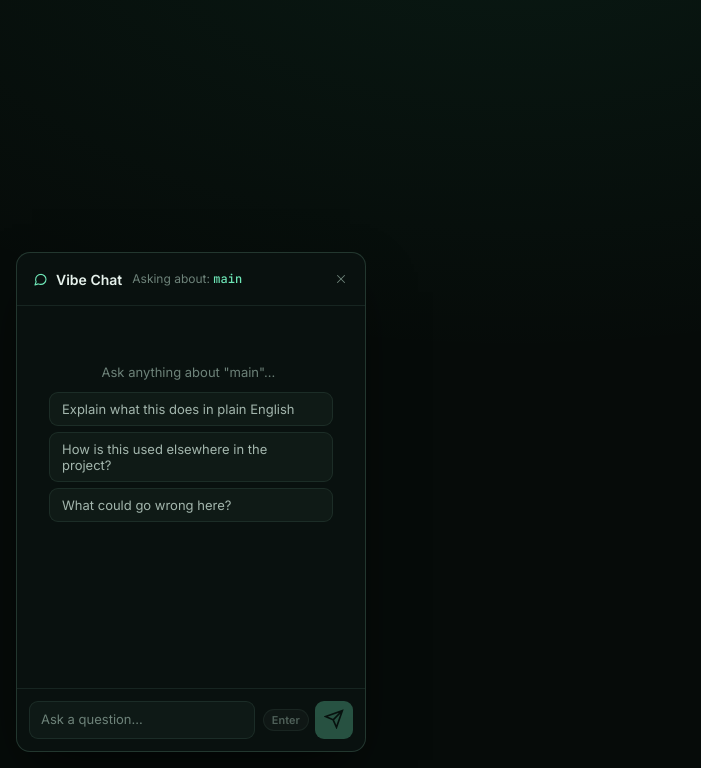
ChatDrawer › keeps the user message when the response is empty
Type "Anyone there?" into the text box with placeholder "Ask a question...".
click(142, 720); type("Anyone there?")  # box [29,701,255,739]
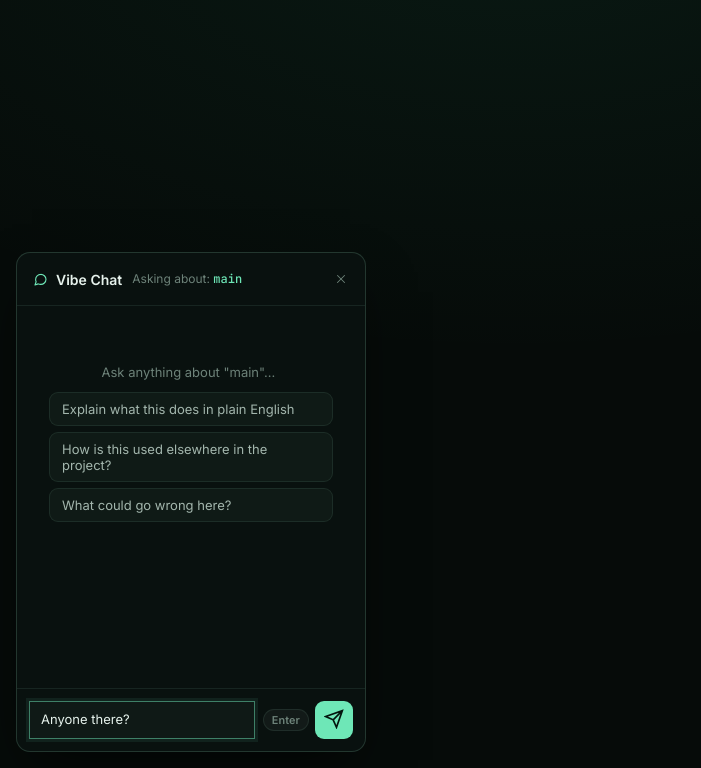
Click the button named "Send message".
click(334, 720)  # box [315,701,353,739]
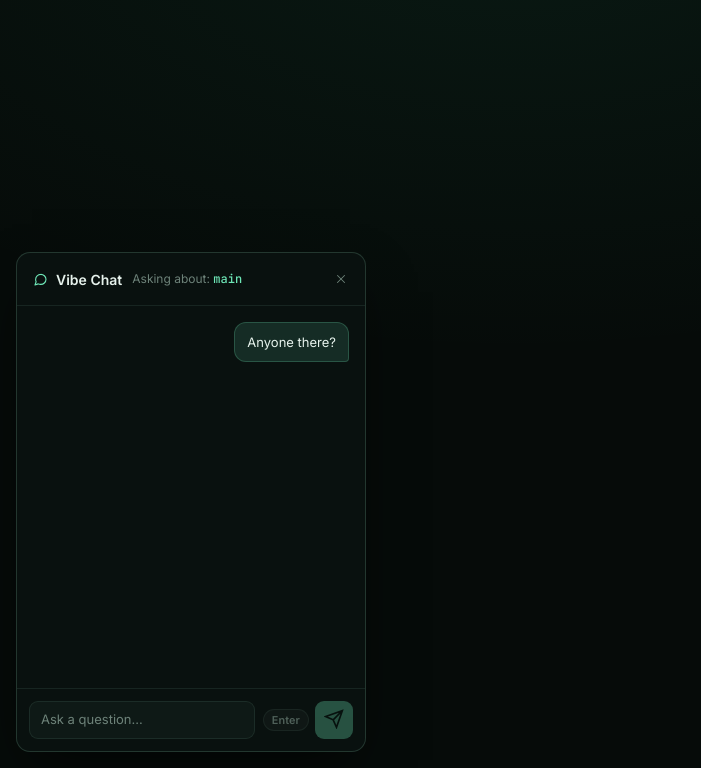
expect the text "Anyone there?" is shown: met, box [247,334,336,350]
